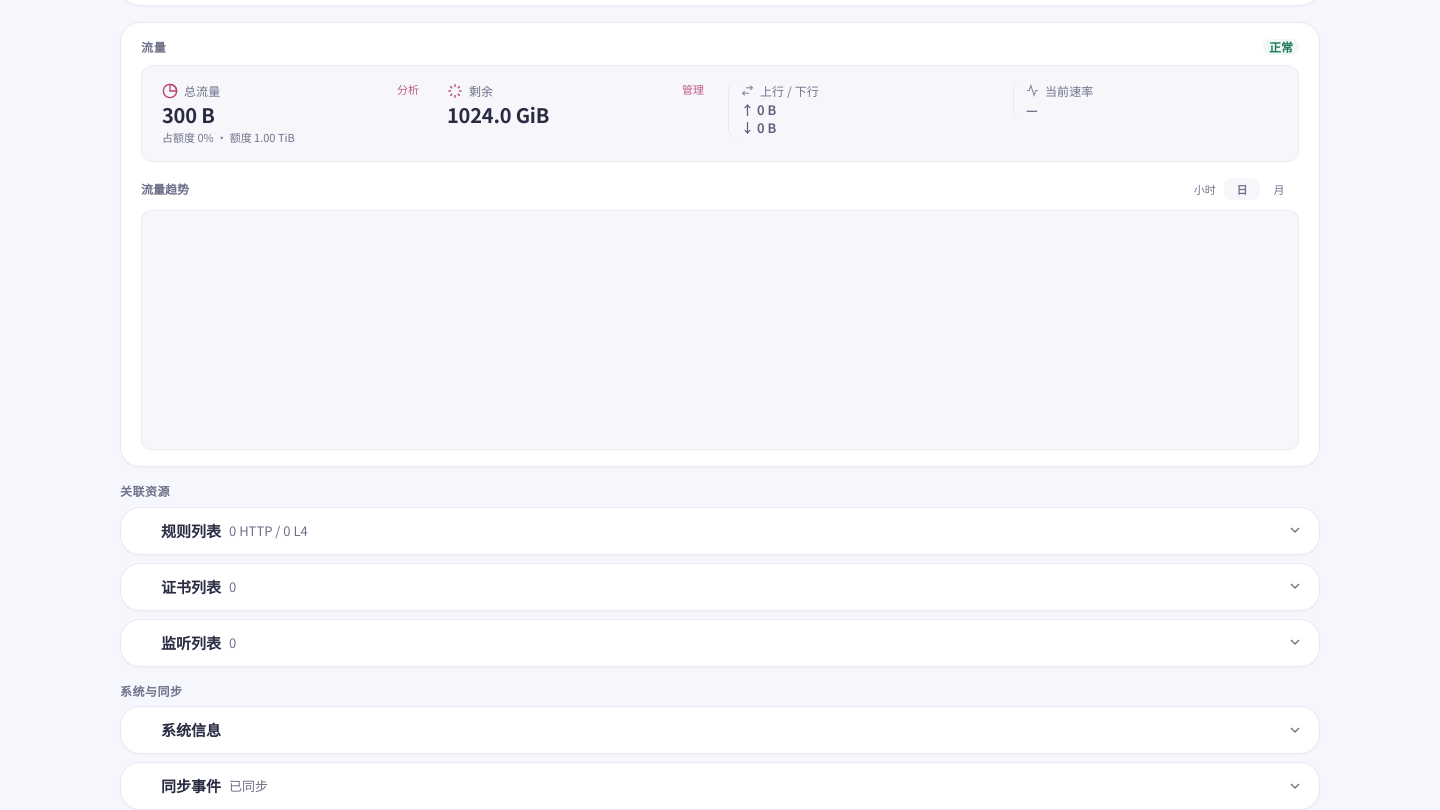
Test: AgentDetailPage › shows IPv4/IPv6/domain/status in the system info identity card
This screenshot has width=1440, height=810.
(page scrolled)
Step 1. Click the button with class "collapsible-section__header" showing "系统信息" → {"x": 191, "y": 730}, box [121,707,1319,753]
(page scrolled)
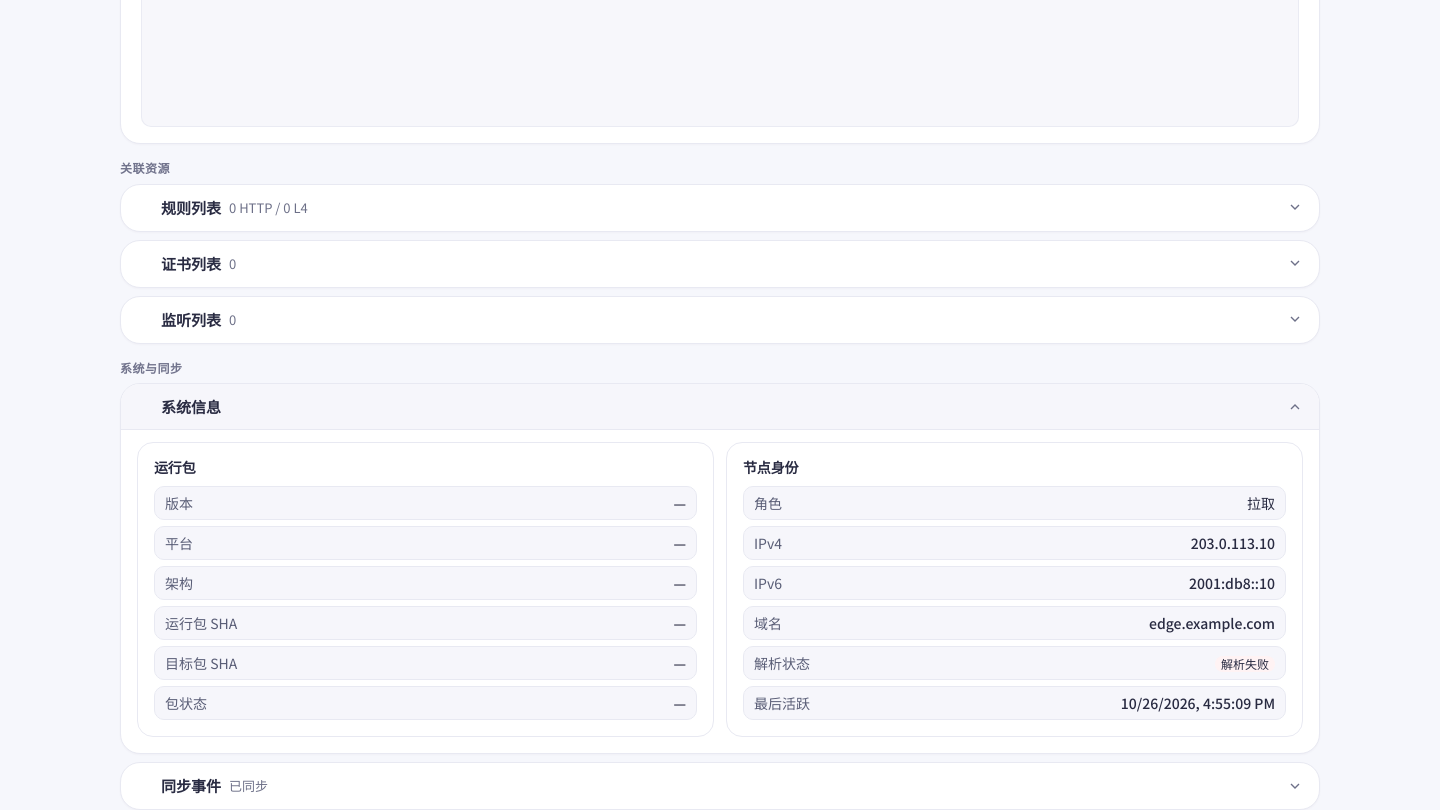
Result: the element with test id "detail-identity-ipv4" shows "203.0.113.10" at [1191,533,1275,553]
Result: the element with test id "detail-identity-ipv6" shows "2001:db8::10" at [1189,573,1275,593]
Result: the element with test id "detail-identity-domain" shows "edge.example.com" at [1149,613,1275,633]
